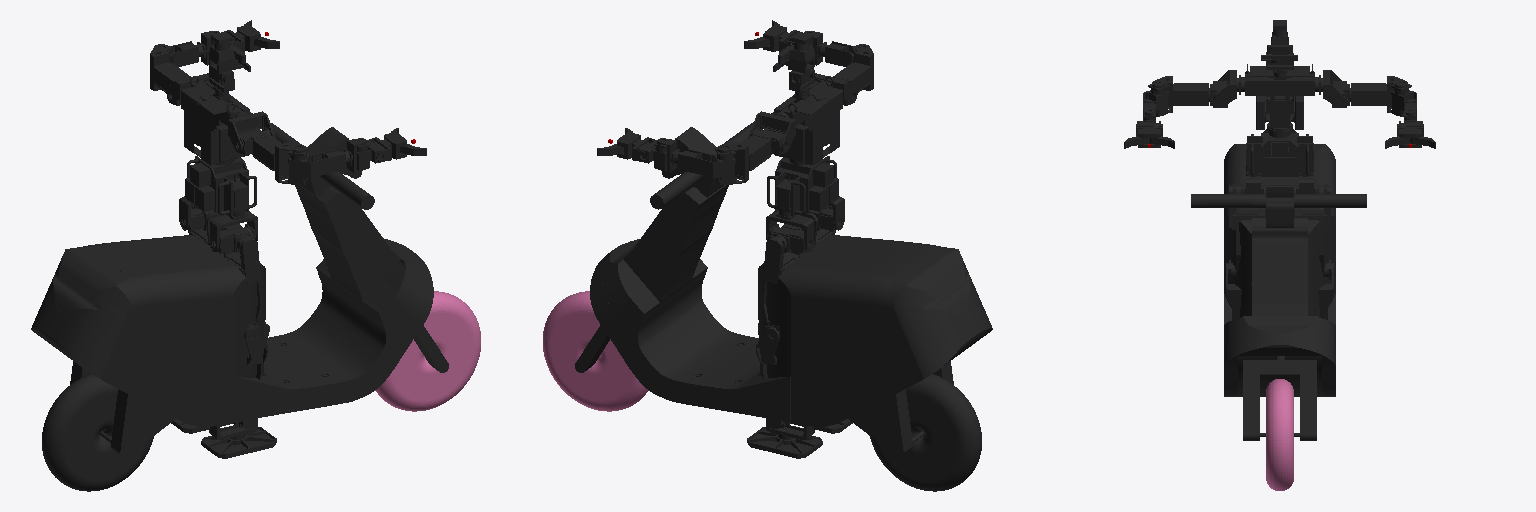
--- What the picture shows (computed from the rendered views, not written in the file) ---
The picture shows the robot from 3 angles, left to right: view 1: azimuth 30°, elevation 25°; view 2: azimuth 150°, elevation 25°; view 3: azimuth 270°, elevation 25°; orthographic projection.
Robot: gogoro_and_thormang3 — 48 links, 47 joints (34 revolute, 2 continuous, 11 fixed); root link pelvis_link; default pose: all joints at 0.
Visible links, largest first — view 1: body, back, front, chest_link, pelvis_link, head, r_arm_el_y_link, r_leg_hip_p_link, r_leg_foot_link, head_p_link, r_arm_sh_p2_link, l_arm_sh_p2_link (+8 smaller); view 2: body, back, front, chest_link, pelvis_link, head, l_arm_el_y_link, l_leg_hip_p_link, l_leg_foot_link, head_p_link, l_arm_sh_p2_link, r_arm_sh_p2_link (+8 smaller); view 3: body, head, chest_link, front, pelvis_link, l_arm_sh_p2_link, r_arm_sh_p2_link, head_p_link, l_leg_hip_p_link, r_leg_hip_p_link, l_arm_el_y_link, r_arm_el_y_link.
Boxes of the visible links, left/top/right/bottom form: body: left=31, top=185, right=433, bottom=456; back: left=42, top=374, right=153, bottom=491; front: left=375, top=291, right=480, bottom=411; chest_link: left=181, top=76, right=252, bottom=165; pelvis_link: left=185, top=156, right=256, bottom=219; head: left=262, top=123, right=448, bottom=372; r_arm_el_y_link: left=288, top=147, right=352, bottom=184; r_leg_hip_p_link: left=222, top=228, right=261, bottom=341; r_leg_foot_link: left=201, top=427, right=276, bottom=458; head_p_link: left=209, top=32, right=250, bottom=85; r_arm_sh_p2_link: left=253, top=135, right=305, bottom=184; l_arm_sh_p2_link: left=150, top=44, right=190, bottom=92; body: left=590, top=185, right=992, bottom=456; back: left=870, top=374, right=981, bottom=491; front: left=543, top=291, right=648, bottom=411; chest_link: left=771, top=76, right=842, bottom=165; pelvis_link: left=767, top=156, right=838, bottom=219; head: left=575, top=122, right=762, bottom=372; l_arm_el_y_link: left=671, top=147, right=735, bottom=184; l_leg_hip_p_link: left=762, top=228, right=801, bottom=341; l_leg_foot_link: left=747, top=427, right=822, bottom=458; head_p_link: left=773, top=32, right=814, bottom=86; l_arm_sh_p2_link: left=718, top=135, right=770, bottom=184; r_arm_sh_p2_link: left=833, top=44, right=873, bottom=92; body: left=1224, top=144, right=1335, bottom=396; head: left=1191, top=185, right=1366, bottom=440; chest_link: left=1237, top=64, right=1322, bottom=137; front: left=1266, top=379, right=1293, bottom=490; pelvis_link: left=1246, top=129, right=1313, bottom=176; l_arm_sh_p2_link: left=1350, top=76, right=1407, bottom=115; r_arm_sh_p2_link: left=1152, top=76, right=1209, bottom=115; head_p_link: left=1261, top=20, right=1297, bottom=64; l_leg_hip_p_link: left=1294, top=184, right=1331, bottom=279; r_leg_hip_p_link: left=1228, top=184, right=1265, bottom=279; l_arm_el_y_link: left=1391, top=82, right=1416, bottom=120; r_arm_el_y_link: left=1143, top=82, right=1168, bottom=120.
Bounding box of the posed robot: 1.58 × 1.11 × 1.47 m (x, y, z).
Meshes: 39 distinct files referenced, 40 mesh visuals loaded (39 OBJ).

robot.urdf — gogoro_and_thormang3:
<?xml version="1.0" encoding="utf-8"?>
<!-- =================================================================================== -->
<!-- |    This document was autogenerated by xacro from gogoro_and_thormang3.xacro     | -->
<!-- |    EDITING THIS FILE BY HAND IS NOT RECOMMENDED                                 | -->
<!-- =================================================================================== -->
<robot name="gogoro_and_thormang3">
  <!-- ros_control plugin -->
  <gazebo>
    <plugin filename="libgazebo_ros_control.so" name="gazebo_ros_control">
      <robotNamespace>/thormang3</robotNamespace>
      <robotSimType>gazebo_ros_control/DefaultRobotHWSim</robotSimType>
      <legacyModeNS>true</legacyModeNS>
    </plugin>
  </gazebo>
  <gazebo>
    <plugin filename="libgazebo_ros_p3d.so" name="ground_truth">
      <frameName>map</frameName>
      <bodyName>pelvis_link</bodyName>
      <topicName>odom</topicName>
      <updateRate>100.0</updateRate>
    </plugin>
  </gazebo>
  <gazebo reference="cam_link">
    <sensor name="center_camera_gz" type="camera">
      <update_rate>30.0</update_rate>
      <camera name="web_cam">
        <!--<horizontal_fov>1.3962634</horizontal_fov> -->
        <horizontal_fov>1.7</horizontal_fov>
        <image>
          <width>640</width>
          <height>480</height>
          <format>R8G8B8</format>
        </image>
        <clip>
          <near>0.02</near>
          <far>300</far>
        </clip>
      </camera>
      <plugin filename="libgazebo_ros_camera.so" name="camera_controller">
        <alwaysOn>true</alwaysOn>
        <updateRate>0.0</updateRate>
        <cameraName>/robotis/sensor/camera</cameraName>
        <imageTopicName>/robotis/sensor/image_raw</imageTopicName>
        <cameraInfoTopicName>/robotis/sensor/camera_info</cameraInfoTopicName>
        <frameName>cam_link</frameName>
        <hackBaseline>0.07</hackBaseline>
        <distortionK1>0.0</distortionK1>
        <distortionK2>0.0</distortionK2>
        <distortionK3>0.0</distortionK3>
        <distortionT1>0.0</distortionT1>
        <distortionT2>0.0</distortionT2>
      </plugin>
    </sensor>
  </gazebo>
  <gazebo reference="lidar_link">
    <sensor name="head_hokuyo_sensor" type="gpu_ray">
      <pose>0 0 0 0 0 0</pose>
      <visualize>false</visualize>
      <update_rate>40</update_rate>
      <ray>
        <scan>
          <horizontal>
            <samples>720</samples>
            <resolution>1</resolution>
            <min_angle>-1.3</min_angle>
            <max_angle>1.0</max_angle>
          </horizontal>
        </scan>
        <range>
          <min>0.10</min>
          <max>6.0</max>
          <resolution>0.01</resolution>
        </range>
        <noise>
          <type>gaussian</type>
          <mean>0.0</mean>
          <stddev>0.01</stddev>
        </noise>
      </ray>
      <plugin filename="libgazebo_ros_gpu_laser.so" name="gazebo_ros_head_hokuyo_controller">
        <topicName>/robotis/sensor/scan</topicName>
        <frameName>lidar_link</frameName>
      </plugin>
    </sensor>
  </gazebo>
  <gazebo>
    <plugin filename="libgazebo_ros_imu.so" name="imu_plugin">
      <alwaysOn>true</alwaysOn>
      <bodyName>imu_link</bodyName>
      <topicName>/robotis/sensor/imu</topicName>
      <serviceName>imu_service</serviceName>
      <gaussianNoise>0.0</gaussianNoise>
      <updateRate>10.0</updateRate>
      <imu>
        <noise>
          <type>gaussian</type>
          <rate>
            <mean>0.0</mean>
            <stddev>2e-4</stddev>
            <bias_mean>0.0000075</bias_mean>
            <bias_stddev>0.0000008</bias_stddev>
          </rate>
          <accel>
            <mean>0.0</mean>
            <stddev>1.7e-2</stddev>
            <bias_mean>0.1</bias_mean>
            <bias_stddev>0.001</bias_stddev>
          </accel>
        </noise>
      </imu>
    </plugin>
  </gazebo>
  <!-- World -->
  <gazebo reference="world">
  </gazebo>
  <!-- Base -->
  <gazebo reference="base">
  </gazebo>
  <!-- Body-->
  <gazebo reference="pelvis_link">
    <mu1>0.2</mu1>
    <mu2>0.2</mu2>
    <material>Gazebo/Grey</material>
  </gazebo>
  <gazebo reference="chest_link">
    <mu1>0.2</mu1>
    <mu2>0.2</mu2>
    <material>Gazebo/Grey</material>
  </gazebo>
  <!-- Head -->
  <gazebo reference="head_y_link">
    <mu1>0.2</mu1>
    <mu2>0.2</mu2>
    <material>Gazebo/Grey</material>
  </gazebo>
  <gazebo reference="head_p_link">
    <mu1>0.2</mu1>
    <mu2>0.2</mu2>
    <material>Gazebo/Grey</material>
  </gazebo>
  <gazebo reference="lidar_link">
  </gazebo>
  <!-- Left Arm -->
  <gazebo reference="l_arm_sh_p1_link">
    <mu1>0.2</mu1>
    <mu2>0.2</mu2>
    <material>Gazebo/Grey</material>
  </gazebo>
  <gazebo reference="l_arm_sh_r_link">
    <mu1>0.2</mu1>
    <mu2>0.2</mu2>
    <material>Gazebo/Grey</material>
  </gazebo>
  <gazebo reference="l_arm_sh_p2_link">
    <mu1>0.2</mu1>
    <mu2>0.2</mu2>
    <material>Gazebo/Grey</material>
  </gazebo>
  <gazebo reference="l_arm_el_y_link">
    <mu1>0.2</mu1>
    <mu2>0.2</mu2>
    <material>Gazebo/Grey</material>
  </gazebo>
  <gazebo reference="l_arm_wr_r_link">
    <mu1>0.2</mu1>
    <mu2>0.2</mu2>
    <material>Gazebo/Grey</material>
  </gazebo>
  <gazebo reference="l_arm_wr_y_link">
    <mu1>0.2</mu1>
    <mu2>0.2</mu2>
    <material>Gazebo/Grey</material>
  </gazebo>
  <gazebo reference="l_arm_wr_p_link">
    <mu1>0.2</mu1>
    <mu2>0.2</mu2>
    <material>Gazebo/Grey</material>
  </gazebo>
  <gazebo reference="l_arm_grip_link">
    <mu1>0.2</mu1>
    <mu2>0.2</mu2>
    <material>Gazebo/Grey</material>
  </gazebo>
  <gazebo reference="l_arm_grip_1_link">
    <mu1>0.2</mu1>
    <mu2>0.2</mu2>
    <material>Gazebo/Grey</material>
  </gazebo>
  <gazebo reference="l_arm_end_link">
    <mu1>0.2</mu1>
    <mu2>0.2</mu2>
    <material>Gazebo/Red</material>
  </gazebo>
  <!-- Right Arm -->
  <gazebo reference="r_arm_sh_p1_link">
    <mu1>0.2</mu1>
    <mu2>0.2</mu2>
    <material>Gazebo/Grey</material>
  </gazebo>
  <gazebo reference="r_arm_sh_r_link">
    <mu1>0.2</mu1>
    <mu2>0.2</mu2>
    <material>Gazebo/Grey</material>
  </gazebo>
  <gazebo reference="r_arm_sh_p2_link">
    <mu1>0.2</mu1>
    <mu2>0.2</mu2>
    <material>Gazebo/Grey</material>
  </gazebo>
  <gazebo reference="r_arm_el_y_link">
    <mu1>0.2</mu1>
    <mu2>0.2</mu2>
    <material>Gazebo/Grey</material>
  </gazebo>
  <gazebo reference="r_arm_wr_r_link">
    <mu1>0.2</mu1>
    <mu2>0.2</mu2>
    <material>Gazebo/Grey</material>
  </gazebo>
  <gazebo reference="r_arm_wr_y_link">
    <mu1>0.2</mu1>
    <mu2>0.2</mu2>
    <material>Gazebo/Grey</material>
  </gazebo>
  <gazebo reference="r_arm_wr_p_link">
    <mu1>0.2</mu1>
    <mu2>0.2</mu2>
    <material>Gazebo/Grey</material>
  </gazebo>
  <gazebo reference="r_arm_grip_link">
    <mu1>0.2</mu1>
    <mu2>0.2</mu2>
    <material>Gazebo/Grey</material>
  </gazebo>
  <gazebo reference="r_arm_grip_1_link">
    <mu1>0.2</mu1>
    <mu2>0.2</mu2>
    <material>Gazebo/Grey</material>
  </gazebo>
  <gazebo reference="r_arm_end_link">
    <mu1>0.2</mu1>
    <mu2>0.2</mu2>
    <material>Gazebo/Red</material>
  </gazebo>
  <!-- Left Leg -->
  <gazebo reference="l_leg_hip_y_link">
    <mu1>0.2</mu1>
    <mu2>0.2</mu2>
    <material>Gazebo/Grey</material>
  </gazebo>
  <gazebo reference="l_leg_hip_r_link">
    <mu1>0.2</mu1>
    <mu2>0.2</mu2>
    <material>Gazebo/Grey</material>
  </gazebo>
  <gazebo reference="l_leg_hip_p_link">
    <mu1>0.2</mu1>
    <mu2>0.2</mu2>
    <material>Gazebo/Grey</material>
  </gazebo>
  <gazebo reference="l_leg_kn_p_link">
    <mu1>0.2</mu1>
    <mu2>0.2</mu2>
    <material>Gazebo/Grey</material>
  </gazebo>
  <gazebo reference="l_leg_an_p_link">
    <mu1>0.2</mu1>
    <mu2>0.2</mu2>
    <material>Gazebo/Grey</material>
  </gazebo>
  <gazebo reference="l_leg_an_r_link">
    <mu1>0.2</mu1>
    <mu2>0.2</mu2>
    <material>Gazebo/Grey</material>
  </gazebo>
  <gazebo reference="l_leg_foot_link">
    <kp>100000.0</kp>
    <kd>100.0</kd>
    <mu1>1.5</mu1>
    <mu2>1.5</mu2>
    <fdir1>1 0 0</fdir1>
    <maxVel>1.0</maxVel>
    <minDepth>0.0</minDepth>
    <material>Gazebo/Grey</material>
  </gazebo>
  <!-- Right Leg -->
  <gazebo reference="r_leg_hip_y_link">
    <mu1>0.2</mu1>
    <mu2>0.2</mu2>
    <material>Gazebo/Grey</material>
  </gazebo>
  <gazebo reference="r_leg_hip_r_link">
    <mu1>0.2</mu1>
    <mu2>0.2</mu2>
    <material>Gazebo/Grey</material>
  </gazebo>
  <gazebo reference="r_leg_hip_p_link">
    <mu1>0.2</mu1>
    <mu2>0.2</mu2>
    <material>Gazebo/Grey</material>
  </gazebo>
  <gazebo reference="r_leg_kn_p_link">
    <mu1>0.2</mu1>
    <mu2>0.2</mu2>
    <material>Gazebo/Grey</material>
  </gazebo>
  <gazebo reference="r_leg_an_p_link">
    <mu1>0.2</mu1>
    <mu2>0.2</mu2>
    <material>Gazebo/Grey</material>
  </gazebo>
  <gazebo reference="r_leg_an_r_link">
    <mu1>0.2</mu1>
    <mu2>0.2</mu2>
    <material>Gazebo/Grey</material>
  </gazebo>
  <gazebo reference="r_leg_foot_link">
    <kp>100000.0</kp>
    <kd>100.0</kd>
    <mu1>1.5</mu1>
    <mu2>1.5</mu2>
    <fdir1>1 0 0</fdir1>
    <maxVel>1.0</maxVel>
    <minDepth>0.0</minDepth>
    <material>Gazebo/Grey</material>
  </gazebo>
  <material name="black">
    <color rgba="0.0 0.0 0.0 1.0"/>
  </material>
  <material name="blue">
    <color rgba="0.0 0.0 0.8 1.0"/>
  </material>
  <material name="green">
    <color rgba="0.0 0.8 0.0 1.0"/>
  </material>
  <material name="grey">
    <color rgba="0.2 0.2 0.2 1.0"/>
  </material>
  <material name="orange">
    <color rgba="1.0 0.423529411765 0.0392156862745 1.0"/>
  </material>
  <material name="brown">
    <color rgba="0.870588235294 0.811764705882 0.764705882353 1.0"/>
  </material>
  <material name="red">
    <color rgba="0.8 0.0 0.0 1.0"/>
  </material>
  <material name="white">
    <color rgba="1.0 1.0 1.0 1.0"/>
  </material>
  <!-- Used for fixing robot -->
  <!--
  <link name="world">
  </link>

  <joint name="world_fixed" type="fixed">
    <origin xyz="0 0 0" rpy="0 0 0"/>
    <parent link="world"/>
    <child link="base"/>
  </joint>

  <link name="base">
  </link>

  <joint name="base_fixed" type="fixed">
    <origin xyz="0 0 0.723" rpy="0 0 0"/>
    <parent link="base"/>
    <child link="pelvis_link"/>
  </joint>
-->
  <!-- pelvis_link -->
  <link name="pelvis_link">
    <collision>
      <origin xyz="-0.01 0 0.07" rpy="0 0 0"/>
      <geometry>
        <box size="0.2 0.25 0.17" />
      </geometry>
    </collision>
    <visual>
      <origin rpy="0 0 0" xyz="0 0 0"/>
      <geometry>
        <mesh filename="package://gogoro_description/meshes/thormang3/robotis_pelvis_link.obj" scale="0.001 0.001 0.001"/>
      </geometry>
      <material name="grey"/>
    </visual>
    <inertial>
      <origin rpy="0 0 0" xyz="-0.011 0.000 0.058"/>
      <mass value="6.869"/>
      <inertia ixx="1.0" ixy="0.0" ixz="0.0" iyy="1.0" iyz="0.0" izz="1.0"/>
      <!--<inertia ixx="0.03603" ixy="0.0" ixz="0.00016" iyy="0.02210" iyz="0.0" izz="0.03830" />-->
    </inertial>
  </link>
  <!-- torso yaw joint -->
  <joint name="torso_y" type="revolute">
    <parent link="pelvis_link"/>
    <child link="chest_link"/>
    <origin rpy="0 0 0" xyz="0 0 0.1705"/>
    <axis xyz="0 0 1"/>
    <limit effort="1000" lower="-1.8849555924" upper="1.8849555924" velocity="6.5"/>
    <dynamics damping="0.1" friction="0.0"/>
  </joint>
  <transmission name="torso_y_tran">
    <type>transmission_interface/SimpleTransmission</type>
    <joint name="torso_y">
      <hardwareInterface>EffortJointInterface</hardwareInterface>
    </joint>
    <actuator name="torso_y_motor">
      <hardwareInterface>EffortJointInterface</hardwareInterface>
      <mechanicalReduction>1</mechanicalReduction>
    </actuator>
  </transmission>
  <!-- chest_link -->
  <link name="chest_link">
    <collision>
      <origin xyz="-0.01 0 0.11" rpy="0 0 0"/>
      <geometry>
        <box size="0.2 0.25 0.23" />
      </geometry>
    </collision>
    <visual>
      <origin rpy="0 0 0" xyz="0 0 0"/>
      <geometry>
        <mesh filename="package://gogoro_description/meshes/thormang3/robotis_chest_link.obj" scale="0.001 0.001 0.001"/>
      </geometry>
      <material name="grey"/>
    </visual>
    <inertial>
      <origin rpy="0 0 0" xyz="-0.007 0.000 0.109"/>
      <mass value="5.383"/>
      <inertia ixx="1.0" ixy="0.0" ixz="0.0" iyy="1.0" iyz="0.0" izz="1.0"/>
      <!--<inertia ixx="0.04710" ixy="0.0" ixz="0.04710" iyy="0.02554" iyz="0.0" izz="0.03094" />-->
    </inertial>
  </link>
  <!-- imu joint -->
  <joint name="imu_fixed" type="fixed">
    <parent link="pelvis_link"/>
    <child link="imu_link"/>
    <origin rpy="0 0 3.141592654" xyz="0.03 0 0.0"/>
  </joint>
  <link name="imu_link">
  </link>
  <!-- left shoulder pitch 1 joint -->
  <joint name="l_arm_sh_p1" type="revolute">
    <axis xyz="0 1 0"/>
    <origin rpy="0 0 0" xyz="0.0 0.152 0.16"/>
    <parent link="chest_link"/>
    <child link="l_arm_sh_p1_link"/>
    <limit effort="1000" lower="-1.570796327" upper="1.570796327" velocity="6.5"/>
    <dynamics damping="0.1" friction="0.0"/>
  </joint>
  <transmission name="l_arm_sh_p1_tran">
    <type>transmission_interface/SimpleTransmission</type>
    <joint name="l_arm_sh_p1">
      <hardwareInterface>EffortJointInterface</hardwareInterface>
    </joint>
    <actuator name="l_arm_sh_p1_motor">
      <hardwareInterface>EffortJointInterface</hardwareInterface>
      <mechanicalReduction>1</mechanicalReduction>
    </actuator>
  </transmission>
  <!-- left shoulder pitch 1 link -->
  <link name="l_arm_sh_p1_link">
    	  <collision>
      	    <origin xyz="0 0.03 -0.01" rpy="0 0 0"/>
      	    <geometry>
              <box size="0.15 0.1 0.09" />
      	    </geometry>
    	  </collision>
    <visual>
      <origin rpy="0 0 0" xyz="0 0 0"/>
      <geometry>
        <mesh filename="package://gogoro_description/meshes/thormang3/robotis_l_arm_sh_p1_link.obj" scale="0.001 0.001 0.001"/>
      </geometry>
      <material name="grey"/>
    </visual>
    <inertial>
      <origin rpy="0 0 0" xyz="-0.003 0.020 -0.005"/>
      <mass value="0.194"/>
      <inertia ixx="1.0" ixy="0.0" ixz="0.0" iyy="1.0" iyz="0.0" izz="1.0"/>
      <!--<inertia ixx="0.00018" ixy="0.0" ixz="0.0" iyy="0.00058" iyz="0.00004" izz="0.00057" />-->
    </inertial>
  </link>
  <!-- left shoulder roll joint -->
  <joint name="l_arm_sh_r" type="revolute">
    <axis xyz="-1 0 0"/>
    <origin rpy="0 0 0" xyz="0.057 0.060 -0.039"/>
    <parent link="l_arm_sh_p1_link"/>
    <child link="l_arm_sh_r_link"/>
    <limit effort="1000" lower="-1.570796327" upper="1.570796327" velocity="6.5"/>
    <dynamics damping="0.1" friction="0.0"/>
  </joint>
  <transmission name="l_arm_sh_r_tran">
    <type>transmission_interface/SimpleTransmission</type>
    <joint name="l_arm_sh_r">
      <hardwareInterface>EffortJointInterface</hardwareInterface>
    </joint>
    <actuator name="l_arm_sh_r_motor">
      <hardwareInterface>EffortJointInterface</hardwareInterface>
      <mechanicalReduction>1</mechanicalReduction>
    </actuator>
  </transmission>
  <!-- left shoulder roll link -->
  <link name="l_arm_sh_r_link">
    	  <collision>
      	    <origin xyz="-0.057 0 0" rpy="0 0 0"/>
      	    <geometry>
              <box size="0.14 0.09 0.09" />
      	    </geometry>
    	  </collision>
    <visual>
      <origin rpy="0 0 0" xyz="0 0 0"/>
      <geometry>
        <mesh filename="package://gogoro_description/meshes/thormang3/robotis_l_arm_sh_r_link.obj" scale="0.001 0.001 0.001"/>
      </geometry>
      <material name="grey"/>
    </visual>
    <inertial>
      <origin rpy="0 0 0" xyz="-0.060 0.002 0.000"/>
      <mass value="0.875"/>
      <inertia ixx="1.0" ixy="0.0" ixz="0.0" iyy="1.0" iyz="0.0" izz="1.0"/>
      <!--<inertia ixx="0.00043" ixy="0.0" ixz="0.0" iyy="0.00112" iyz="0.0" izz="0.00113" />-->
    </inertial>
  </link>
  <!-- left shoulder pitch 2 joint -->
  <joint name="l_arm_sh_p2" type="revolute">
    <axis xyz="0 1 0"/>
    <origin rpy="0 0 0" xyz="-0.057 0.033 0.0"/>
    <parent link="l_arm_sh_r_link"/>
    <child link="l_arm_sh_p2_link"/>
    <limit effort="1000" lower="-1.570796327" upper="1.570796327" velocity="6.5"/>
    <dynamics damping="0.1" friction="0.0"/>
  </joint>
  <transmission name="l_arm_sh_p2_tran">
    <type>transmission_interface/SimpleTransmission</type>
    <joint name="l_arm_sh_p2">
      <hardwareInterface>EffortJointInterface</hardwareInterface>
    </joint>
    <actuator name="l_arm_sh_p2_motor">
      <hardwareInterface>EffortJointInterface</hardwareInterface>
      <mechanicalReduction>1</mechanicalReduction>
    </actuator>
  </transmission>
  <!-- left shoulder pitch2 link -->
  <link name="l_arm_sh_p2_link">
    	  <collision>
      	    <origin xyz="0.01 0.11 0" rpy="0 0 0"/>
      	    <geometry>
              <box size="0.1 0.24 0.13" />
      	    </geometry>
    	  </collision>
    <visual>
      <origin rpy="0 0 0" xyz="0 0 0"/>
      <geometry>
        <mesh filename="package://gogoro_description/meshes/thormang3/robotis_l_arm_sh_p2_link.obj" scale="0.001 0.001 0.001"/>
      </geometry>
      <material name="grey"/>
    </visual>
    <inertial>
      <origin rpy="0 0 0" xyz="0.000 0.073 0.000"/>
      <mass value="1.122"/>
      <inertia ixx="1.0" ixy="0.0" ixz="0.0" iyy="1.0" iyz="0.0" izz="1.0"/>
      <!--<inertia ixx="0.00277" ixy="-0.00002" ixz="-0.00001" iyy="0.00090" iyz="-0.00004" izz="0.00255" />-->
    </inertial>
  </link>
  <!-- left elbow yaw joint -->
  <joint name="l_arm_el_y" type="revolute">
    <axis xyz="0 0 -1"/>
    <origin rpy="0 0 0" xyz="0.030 0.187 0.057"/>
    <parent link="l_arm_sh_p2_link"/>
    <child link="l_arm_el_y_link"/>
    <limit effort="1000" lower="-1.2566370616" upper="1.2566370616" velocity="6.5"/>
    <dynamics damping="0.1" friction="0.0"/>
  </joint>
  <transmission name="l_arm_el_y_tran">
    <type>transmission_interface/SimpleTransmission</type>
    <joint name="l_arm_el_y">
      <hardwareInterface>EffortJointInterface</hardwareInterface>
    </joint>
    <actuator name="l_arm_el_y_motor">
      <hardwareInterface>EffortJointInterface</hardwareInterface>
      <mechanicalReduction>1</mechanicalReduction>
    </actuator>
  </transmission>
  <!-- left elbow yaw link -->
  <link name="l_arm_el_y_link">
    	  <collision>
      	    <origin xyz="0.08 0.01 -0.057" rpy="0 0 0"/>
      	    <geometry>
              <box size="0.17 0.1 0.08" />
      	    </geometry>
    	  </collision>
    <visual>
      <origin rpy="0 0 0" xyz="0 0 0"/>
      <geometry>
        <mesh filename="package://gogoro_description/meshes/thormang3/robotis_l_arm_el_y_link.obj" scale="0.001 0.001 0.001"/>
      </geometry>
      <material name="grey"/>
    </visual>
    <inertial>
      <origin rpy="0 0 0" xyz="0.042 0.012 -0.058"/>
      <mass value="1.357"/>
      <inertia ixx="1.0" ixy="0.0" ixz="0.0" iyy="1.0" iyz="0.0" izz="1.0"/>
      <!--<inertia ixx="0.00152" ixy="-0.00100" ixz="-0.00006" iyy="0.00560" iyz="-0.00002" izz="0.00528" />-->
    </inertial>
  </link>
  <!-- left wrist roll joint -->
  <joint name="l_arm_wr_r" type="revolute">
    <axis xyz="1 0 0"/>
    <origin rpy="0 0 0" xyz="0.171 0.030 -0.057"/>
    <parent link="l_arm_el_y_link"/>
    <child link="l_arm_wr_r_link"/>
    <limit effort="1000" lower="-2.8274333886" upper="2.8274333886" velocity="6.5"/>
    <dynamics damping="0.1" friction="0.0"/>
  </joint>
  <transmission name="l_arm_wr_r_tran">
    <type>transmission_interface/SimpleTransmission</type>
    <joint name="l_arm_wr_r">
      <hardwareInterface>EffortJointInterface</hardwareInterface>
    </joint>
    <actuator name="l_arm_wr_r_motor">
      <hardwareInterface>EffortJointInterface</hardwareInterface>
      <mechanicalReduction>1</mechanicalReduction>
    </actuator>
  </transmission>
  <!-- left wrist roll link -->
  <link name="l_arm_wr_r_link">
    	  <collision>
      	    <origin xyz="0.02 0 0" rpy="0 0 0"/>
      	    <geometry>
              <box size="0.05 0.05 0.11" />
      	    </geometry>
    	  </collision>
    <visual>
      <origin rpy="0 0 0" xyz="0 0 0"/>
      <geometry>
        <mesh filename="package://gogoro_description/meshes/thormang3/robotis_l_arm_wr_r_link.obj" scale="0.001 0.001 0.001"/>
      </geometry>
      <material name="grey"/>
    </visual>
    <inertial>
      <origin rpy="0 0 0" xyz="0.010 0.000 0.002"/>
      <mass value="0.087"/>
      <inertia ixx="1.0" ixy="0.0" ixz="0.0" iyy="1.0" iyz="0.0" izz="1.0"/>
      <!--<inertia ixx="0.00012" ixy="0.0" ixz="0.0" iyy="0.00011" iyz="0.0" izz="0.00003" />-->
    </inertial>
  </link>
  <!-- left wrist yaw joint -->
  <joint name="l_arm_wr_y" type="revolute">
    <axis xyz="0 0 -1"/>
    <origin rpy="0 0 0" xyz="0.039 0.0 0.045"/>
    <parent link="l_arm_wr_r_link"/>
    <child link="l_arm_wr_y_link"/>
    <limit effort="1000" lower="-1.4137166943" upper="1.4137166943" velocity="6.5"/>
    <dynamics damping="0.1" friction="0.0"/>
  </joint>
  <transmission name="l_arm_wr_y_tran">
    <type>transmission_interface/SimpleTransmission</type>
    <joint name="l_arm_wr_y">
      <hardwareInterface>EffortJointInterface</hardwareInterface>
    </joint>
    <actuator name="l_arm_wr_y_motor">
      <hardwareInterface>EffortJointInterface</hardwareInterface>
      <mechanicalReduction>1</mechanicalReduction>
    </actuator>
  </transmission>
  <!-- left wrist yaw link -->
  <link name="l_arm_wr_y_link">
    	  <collision>
      	    <origin xyz="0.03 0 -0.045" rpy="0 0 0"/>
      	    <geometry>
              <box size="0.09 0.1 0.09" />
      	    </geometry>
    	  </collision>
    <visual>
      <origin rpy="0 0 0" xyz="0 0 0"/>
      <geometry>
        <mesh filename="package://gogoro_description/meshes/thormang3/robotis_l_arm_wr_y_link.obj" scale="0.001 0.001 0.001"/>
      </geometry>
      <material name="grey"/>
    </visual>
    <inertial>
      <origin rpy="0 0 0" xyz="0.023 0.001 -0.046"/>
      <mass value="0.768"/>
      <inertia ixx="1.0" ixy="0.0" ixz="0.0" iyy="1.0" iyz="0.0" izz="1.0"/>
      <!--<inertia ixx="0.00059" ixy="-0.00002" ixz="-0.00002" iyy="0.00078" iyz="0.0" izz="0.00078" />-->
    </inertial>
  </link>
  <!-- left wrist pitch joint -->
  <joint name="l_arm_wr_p" type="revolute">
    <axis xyz="0 -1 0"/>
    <origin rpy="0 0 0" xyz="0.045 -0.045 -0.045"/>
    <parent link="l_arm_wr_y_link"/>
    <child link="l_arm_wr_p_link"/>
    <limit effort="1000" lower="-1.4137166943" upper="1.4137166943" velocity="6.5"/>
    <dynamics damping="0.1" friction="0.0"/>
  </joint>
  <transmission name="l_arm_wr_p_tran">
    <type>transmission_interface/SimpleTransmission</type>
    <joint name="l_arm_wr_p">
      <hardwareInterface>EffortJointInterface</hardwareInterface>
    </joint>
    <actuator name="l_arm_wr_p_motor">
      <hardwareInterface>EffortJointInterface</hardwareInterface>
      <mechanicalReduction>1</mechanicalReduction>
    </actuator>
  </transmission>
  <!-- left wrist pitch link -->
  <link name="l_arm_wr_p_link">
    	  <collision>
      	    <origin xyz="0.07 0.045 0" rpy="0 0 0"/>
      	    <geometry>
              <box size="0.07 0.1 0.06" />
      	    </geometry>
    	  </collision>
    <visual>
      <origin rpy="0 0 0" xyz="0 0 0"/>
      <geometry>
        <mesh filename="package://gogoro_description/meshes/thormang3/robotis_l_arm_wr_p_link.obj" scale="0.001 0.001 0.001"/>
      </geometry>
      <material name="grey"/>
    </visual>
    <inertial>
      <origin rpy="0 0 0" xyz="0.065 0.045 0.000"/>
      <mass value="0.565"/>
      <inertia ixx="1.0" ixy="0.0" ixz="0.0" iyy="1.0" iyz="0.0" izz="1.0"/>
      <!--<inertia ixx="0.00047" ixy="-0.00001" ixz="0.0" iyy="0.00042" iyz="0.0" izz="0.00058" />-->
    </inertial>
  </link>
  <!-- left arm gripper joint -->
  <joint name="l_arm_grip" type="revolute">
    <axis xyz="0 0 -1"/>
    <origin rpy="0 0 0.698131700889" xyz="0.0877 0.0583 0.0"/>
    <parent link="l_arm_wr_p_link"/>
    <child link="l_arm_grip_link"/>
    <limit effort="1000" lower="0.0" upper="1.13446401394" velocity="6.5"/>
    <dynamics damping="0.1" friction="0.0"/>
  </joint>
  <transmission name="l_arm_grip_tran">
    <type>transmission_interface/SimpleTransmission</type>
    <joint name="l_arm_grip">
      <hardwareInterface>EffortJointInterface</hardwareInterface>
    </joint>
    <actuator name="l_arm_grip_motor">
      <hardwareInterface>EffortJointInterface</hardwareInterface>
      <mechanicalReduction>1</mechanicalReduction>
    </actuator>
  </transmission>
  <!-- left arm gripper link -->
  <link name="l_arm_grip_link">
    <visual>
      <origin rpy="0 0 0" xyz="0 0 0"/>
      <geometry>
        <mesh filename="package://gogoro_description/meshes/thormang3/robotis_l_arm_grip_link.obj" scale="0.001 0.001 0.001"/>
      </geometry>
      <material name="grey"/>
    </visual>
    <inertial>
      <origin rpy="0 0 0" xyz="0.031 0.014 0.000"/>
      <mass value="0.013"/>
      <inertia ixx="1.0" ixy="0.0" ixz="0.0" iyy="1.0" iyz="0.0" izz="1.0"/>
      <!--<inertia ixx="0.0" ixy="0.0" ixz="0.0" iyy="0.00001" iyz="0.0" izz="0.00001" />-->
    </inertial>
  </link>
  <!-- left arm gripper 1 joint -->
  <joint name="l_arm_grip_1" type="revolute">
    <axis xyz="0 0 1"/>
    <origin rpy="0 0 -0.698131700889" xyz="0.0877 0.0317 0.0"/>
    <parent link="l_arm_wr_p_link"/>
    <child link="l_arm_grip_1_link"/>
    <limit effort="1000" lower="0.0" upper="1.13446401394" velocity="6.5"/>
    <dynamics damping="0.1" friction="0.0"/>
  </joint>
  <transmission name="l_arm_grip_1_tran">
    <type>transmission_interface/SimpleTransmission</type>
    <joint name="l_arm_grip_1">
      <hardwareInterface>EffortJointInterface</hardwareInterface>
    </joint>
    <actuator name="l_arm_grip_1_motor">
      <hardwareInterface>EffortJointInterface</hardwareInterface>
      <mechanicalReduction>1</mechanicalReduction>
    </actuator>
  </transmission>
  <!-- left arm gripper 1 link -->
  <link name="l_arm_grip_1_link">
    <visual>
      <origin rpy="0 0 0" xyz="0 0 0"/>
      <geometry>
        <mesh filename="package://gogoro_description/meshes/thormang3/robotis_l_arm_grip_1_link.obj" scale="0.001 0.001 0.001"/>
      </geometry>
      <material name="grey"/>
    </visual>
    <inertial>
      <origin rpy="0 0 0" xyz="0.031 -0.014 0.000"/>
      <mass value="0.013"/>
      <inertia ixx="1.0" ixy="0.0" ixz="0.0" iyy="1.0" iyz="0.0" izz="1.0"/>
      <!--<inertia ixx="0.0" ixy="0.0" ixz="0.0" iyy="0.00001" iyz="0.0" izz="0.00001" />-->
    </inertial>
  </link>
  <!-- left end effector -->
  <joint name="l_arm_end" type="fixed">
    <origin rpy="0 0 0" xyz="0.145 0.045 0"/>
    <parent link="l_arm_wr_p_link"/>
    <child link="l_arm_end_link"/>
  </joint>
  <!-- left end effector link -->
  <link name="l_arm_end_link">
    <visual>
      <origin rpy="0 0 0" xyz="0 0 0"/>
      <geometry>
        <box size="0.01 0.01 0.01"/>
      </geometry>
      <material name="red"/>
    </visual>
    <inertial>
      <origin rpy="0 0 0" xyz="0.0 0.0 0.0"/>
      <mass value="0.001"/>
      <inertia ixx="1.0" ixy="0.0" ixz="0.0" iyy="1.0" iyz="0.0" izz="1.0"/>
    </inertial>
  </link>
  <!-- right shoulder pitch 1 joint -->
  <joint name="r_arm_sh_p1" type="revolute">
    <axis xyz="0 -1 0"/>
    <origin rpy="0 0 0" xyz="0.0 -0.152 0.16"/>
    <parent link="chest_link"/>
    <child link="r_arm_sh_p1_link"/>
    <limit effort="1000" lower="-1.570796327" upper="1.570796327" velocity="6.5"/>
    <dynamics damping="0.1" friction="0.0"/>
  </joint>
  <transmission name="r_arm_sh_p1_tran">
    <type>transmission_interface/SimpleTransmission</type>
    <joint name="r_arm_sh_p1">
      <hardwareInterface>EffortJointInterface</hardwareInterface>
    </joint>
    <actuator name="r_arm_sh_p1_motor">
      <hardwareInterface>EffortJointInterface</hardwareInterface>
      <mechanicalReduction>1</mechanicalReduction>
    </actuator>
  </transmission>
  <!-- right shoulder pitch 1 link -->
  <link name="r_arm_sh_p1_link">
    	  <collision>
      	    <origin xyz="0 -0.03 -0.01" rpy="0 0 0"/>
      	    <geometry>
              <box size="0.15 0.1 0.09" />
      	    </geometry>
    	  </collision>
    <visual>
      <origin rpy="0 0 0" xyz="0 0 0"/>
      <geometry>
        <mesh filename="package://gogoro_description/meshes/thormang3/robotis_r_arm_sh_p1_link.obj" scale="0.001 0.001 0.001"/>
      </geometry>
      <material name="grey"/>
    </visual>
    <inertial>
      <origin rpy="0 0 0" xyz="-0.003 -0.020 -0.005"/>
      <mass value="0.194"/>
      <inertia ixx="1.0" ixy="0.0" ixz="0.0" iyy="1.0" iyz="0.0" izz="1.0"/>
      <!--<inertia ixx="0.00018" ixy="0.0" ixz="0.0" iyy="0.00058" iyz="-0.00004" izz="0.00057" />-->
    </inertial>
  </link>
  <!-- right shoulder roll joint -->
  <joint name="r_arm_sh_r" type="revolute">
    <axis xyz="-1 0 0"/>
    <origin rpy="0 0 0" xyz="0.057 -0.060 -0.039"/>
    <parent link="r_arm_sh_p1_link"/>
    <child link="r_arm_sh_r_link"/>
    <limit effort="1000" lower="-1.570796327" upper="1.570796327" velocity="6.5"/>
    <dynamics damping="0.1" friction="0.0"/>
  </joint>
  <transmission name="r_arm_sh_r_tran">
    <type>transmission_interface/SimpleTransmission</type>
    <joint name="r_arm_sh_r">
      <hardwareInterface>EffortJointInterface</hardwareInterface>
    </joint>
    <actuator name="r_arm_sh_r_motor">
      <hardwareInterface>EffortJointInterface</hardwareInterface>
      <mechanicalReduction>1</mechanicalReduction>
    </actuator>
  </transmission>
  <!-- right shoulder roll link -->
  <link name="r_arm_sh_r_link">
    	  <collision>
      	    <origin xyz="-0.057 0 0" rpy="0 0 0"/>
      	    <geometry>
              <box size="0.14 0.09 0.09" />
      	    </geometry>
    	  </collision>
    <visual>
      <origin rpy="0 0 0" xyz="0 0 0"/>
      <geometry>
        <mesh filename="package://gogoro_description/meshes/thormang3/robotis_r_arm_sh_r_link.obj" scale="0.001 0.001 0.001"/>
      </geometry>
      <material name="grey"/>
    </visual>
    <inertial>
      <origin rpy="0 0 0" xyz="-0.060 -0.002 0.000"/>
      <mass value="0.875"/>
      <inertia ixx="1.0" ixy="0.0" ixz="0.0" iyy="1.0" iyz="0.0" izz="1.0"/>
      <!--<inertia ixx="0.00043" ixy="0.0" ixz="0.0" iyy="0.00112" iyz="0.0" izz="0.00113" />-->
    </inertial>
  </link>
  <!-- right shoulder pitch 2 joint -->
  <joint name="r_arm_sh_p2" type="revolute">
    <axis xyz="0 -1 0"/>
    <origin rpy="0 0 0" xyz="-0.057 -0.033 0.0"/>
    <parent link="r_arm_sh_r_link"/>
    <child link="r_arm_sh_p2_link"/>
    <limit effort="1000" lower="-1.570796327" upper="1.570796327" velocity="6.5"/>
    <dynamics damping="0.1" friction="0.0"/>
  </joint>
  <transmission name="r_arm_sh_p2_tran">
    <type>transmission_interface/SimpleTransmission</type>
    <joint name="r_arm_sh_p2">
      <hardwareInterface>EffortJointInterface</hardwareInterface>
    </joint>
    <actuator name="r_arm_sh_p2_motor">
      <hardwareInterface>EffortJointInterface</hardwareInterface>
      <mechanicalReduction>1</mechanicalReduction>
    </actuator>
  </transmission>
  <!-- right shoulder pitch2 link -->
  <link name="r_arm_sh_p2_link">
    	  <collision>
      	    <origin xyz="0.01 -0.11 0" rpy="0 0 0"/>
      	    <geometry>
              <box size="0.1 0.24 0.13" />
      	    </geometry>
    	  </collision>
    <visual>
      <origin rpy="0 0 0" xyz="0 0 0"/>
      <geometry>
        <mesh filename="package://gogoro_description/meshes/thormang3/robotis_r_arm_sh_p2_link.obj" scale="0.001 0.001 0.001"/>
      </geometry>
      <material name="grey"/>
    </visual>
    <inertial>
      <origin rpy="0 0 0" xyz="0.000 -0.073 0.000"/>
      <mass value="1.122"/>
      <inertia ixx="1.0" ixy="0.0" ixz="0.0" iyy="1.0" iyz="0.0" izz="1.0"/>
      <!--<inertia ixx="0.00277" ixy="0.00002" ixz="-0.00001" iyy="0.00090" iyz="0.00004" izz="0.00255" />-->
    </inertial>
  </link>
  <!-- right elbow yaw joint -->
  <joint name="r_arm_el_y" type="revolute">
    <axis xyz="0 0 -1"/>
    <origin rpy="0 0 0" xyz="0.030 -0.187 0.057"/>
    <parent link="r_arm_sh_p2_link"/>
    <child link="r_arm_el_y_link"/>
    <limit effort="1000" lower="-1.2566370616" upper="1.2566370616" velocity="6.5"/>
    <dynamics damping="0.1" friction="0.0"/>
  </joint>
  <transmission name="r_arm_el_y_tran">
    <type>transmission_interface/SimpleTransmission</type>
    <joint name="r_arm_el_y">
      <hardwareInterface>EffortJointInterface</hardwareInterface>
    </joint>
    <actuator name="r_arm_el_y_motor">
      <hardwareInterface>EffortJointInterface</hardwareInterface>
      <mechanicalReduction>1</mechanicalReduction>
    </actuator>
  </transmission>
  <!-- right elbow yaw link -->
  <link name="r_arm_el_y_link">
    	  <collision>
      	    <origin xyz="0.08 -0.01 -0.057" rpy="0 0 0"/>
      	    <geometry>
              <box size="0.17 0.1 0.08" />
      	    </geometry>
    	  </collision>
    <visual>
      <origin rpy="0 0 0" xyz="0 0 0"/>
      <geometry>
        <mesh filename="package://gogoro_description/meshes/thormang3/robotis_r_arm_el_y_link.obj" scale="0.001 0.001 0.001"/>
      </geometry>
      <material name="grey"/>
    </visual>
    <inertial>
      <origin rpy="0 0 0" xyz="0.042 -0.012 -0.058"/>
      <mass value="1.357"/>
      <inertia ixx="1.0" ixy="0.0" ixz="0.0" iyy="1.0" iyz="0.0" izz="1.0"/>
      <!--<inertia ixx="0.00152" ixy="0.00100" ixz="-0.00006" iyy="0.00560" iyz="0.00002" izz="0.00528" />-->
    </inertial>
  </link>
  <!-- right wrist roll joint -->
  <joint name="r_arm_wr_r" type="revolute">
    <axis xyz="1 0 0"/>
    <origin rpy="0 0 0" xyz="0.171 -0.030 -0.057"/>
    <parent link="r_arm_el_y_link"/>
    <child link="r_arm_wr_r_link"/>
    <limit effort="1000" lower="-2.8274333886" upper="2.8274333886" velocity="6.5"/>
    <dynamics damping="0.1" friction="0.0"/>
  </joint>
  <transmission name="r_arm_wr_r_tran">
    <type>transmission_interface/SimpleTransmission</type>
    <joint name="r_arm_wr_r">
      <hardwareInterface>EffortJointInterface</hardwareInterface>
    </joint>
    <actuator name="r_arm_wr_r_motor">
      <hardwareInterface>EffortJointInterface</hardwareInterface>
      <mechanicalReduction>1</mechanicalReduction>
    </actuator>
  </transmission>
  <!-- right wrist roll link -->
  <link name="r_arm_wr_r_link">
    	  <collision>
      	    <origin xyz="0.02 0 0" rpy="0 0 0"/>
      	    <geometry>
              <box size="0.05 0.05 0.11" />
      	    </geometry>
    	  </collision>
    <visual>
      <origin rpy="0 0 0" xyz="0 0 0"/>
      <geometry>
        <mesh filename="package://gogoro_description/meshes/thormang3/robotis_r_arm_wr_r_link.obj" scale="0.001 0.001 0.001"/>
      </geometry>
      <material name="grey"/>
    </visual>
    <inertial>
      <origin rpy="0 0 0" xyz="0.010 0.000 -0.002"/>
      <mass value="0.087"/>
      <inertia ixx="1.0" ixy="0.0" ixz="0.0" iyy="1.0" iyz="0.0" izz="1.0"/>
      <!--<inertia ixx="0.00012" ixy="0.0" ixz="0.0" iyy="0.00011" iyz="0.0" izz="0.00003" />-->
    </inertial>
  </link>
  <!-- right wrist yaw joint -->
  <joint name="r_arm_wr_y" type="revolute">
    <axis xyz="0 0 -1"/>
    <origin rpy="0 0 0" xyz="0.039 0.0 0.045"/>
    <parent link="r_arm_wr_r_link"/>
    <child link="r_arm_wr_y_link"/>
    <limit effort="1000" lower="-1.4137166943" upper="1.4137166943" velocity="6.5"/>
    <dynamics damping="0.1" friction="0.0"/>
  </joint>
  <transmission name="r_arm_wr_y_tran">
    <type>transmission_interface/SimpleTransmission</type>
    <joint name="r_arm_wr_y">
      <hardwareInterface>EffortJointInterface</hardwareInterface>
    </joint>
    <actuator name="r_arm_wr_y_motor">
      <hardwareInterface>EffortJointInterface</hardwareInterface>
      <mechanicalReduction>1</mechanicalReduction>
    </actuator>
  </transmission>
  <!-- right wrist yaw link -->
  <link name="r_arm_wr_y_link">
    	  <collision>
      	    <origin xyz="0.03 0 -0.045" rpy="0 0 0"/>
      	    <geometry>
              <box size="0.09 0.1 0.09" />
      	    </geometry>
    	  </collision>
    <visual>
      <origin rpy="0 0 0" xyz="0 0 0"/>
      <geometry>
        <mesh filename="package://gogoro_description/meshes/thormang3/robotis_r_arm_wr_y_link.obj" scale="0.001 0.001 0.001"/>
      </geometry>
      <material name="grey"/>
    </visual>
    <inertial>
      <origin rpy="0 0 0" xyz="0.023 -0.001 -0.046"/>
      <mass value="0.768"/>
      <inertia ixx="1.0" ixy="0.0" ixz="0.0" iyy="1.0" iyz="0.0" izz="1.0"/>
      <!--<inertia ixx="0.00059" ixy="0.00002" ixz="-0.00002" iyy="0.00078" iyz="0.0" izz="0.00078" />-->
    </inertial>
  </link>
  <!-- right wrist pitch joint -->
  <joint name="r_arm_wr_p" type="revolute">
    <axis xyz="0 1 0"/>
    <origin rpy="0 0 0" xyz="0.045 0.045 -0.045"/>
    <parent link="r_arm_wr_y_link"/>
    <child link="r_arm_wr_p_link"/>
    <limit effort="1000" lower="-1.4137166943" upper="1.4137166943" velocity="6.5"/>
    <dynamics damping="0.1" friction="0.0"/>
  </joint>
  <transmission name="r_arm_wr_p_tran">
    <type>transmission_interface/SimpleTransmission</type>
    <joint name="r_arm_wr_p">
      <hardwareInterface>EffortJointInterface</hardwareInterface>
    </joint>
    <actuator name="r_arm_wr_p_motor">
      <hardwareInterface>EffortJointInterface</hardwareInterface>
      <mechanicalReduction>1</mechanicalReduction>
    </actuator>
  </transmission>
  <!-- right wrist pitch link -->
  <link name="r_arm_wr_p_link">
    	  <collision>
      	    <origin xyz="0.07 -0.045 0" rpy="0 0 0"/>
      	    <geometry>
              <box size="0.07 0.1 0.06" />
      	    </geometry>
    	  </collision>
    <visual>
      <origin rpy="0 0 0" xyz="0 0 0"/>
      <geometry>
        <mesh filename="package://gogoro_description/meshes/thormang3/robotis_r_arm_wr_p_link.obj" scale="0.001 0.001 0.001"/>
      </geometry>
      <material name="grey"/>
    </visual>
    <inertial>
      <origin rpy="0 0 0" xyz="0.065 -0.045 0.000"/>
      <mass value="0.565"/>
      <inertia ixx="1.0" ixy="0.0" ixz="0.0" iyy="1.0" iyz="0.0" izz="1.0"/>
      <!--<inertia ixx="0.00047" ixy="0.00001" ixz="0.0" iyy="0.00042" iyz="0.0" izz="0.00058" />-->
    </inertial>
  </link>
  <!-- right arm gripper joint -->
  <joint name="r_arm_grip" type="revolute">
    <axis xyz="0 0 1"/>
    <origin rpy="0 0 -0.698131700889" xyz="0.0877 -0.0583 0.0"/>
    <parent link="r_arm_wr_p_link"/>
    <child link="r_arm_grip_link"/>
    <limit effort="1000" lower="0.0" upper="1.13446401394" velocity="6.5"/>
    <dynamics damping="0.1" friction="0.0"/>
  </joint>
  <transmission name="r_arm_grip_tran">
    <type>transmission_interface/SimpleTransmission</type>
    <joint name="r_arm_grip">
      <hardwareInterface>EffortJointInterface</hardwareInterface>
    </joint>
    <actuator name="r_arm_grip_motor">
      <hardwareInterface>EffortJointInterface</hardwareInterface>
      <mechanicalReduction>1</mechanicalReduction>
    </actuator>
  </transmission>
  <!-- right arm gripper link -->
  <link name="r_arm_grip_link">
    <visual>
      <origin rpy="0 0 0" xyz="0 0 0"/>
      <geometry>
        <mesh filename="package://gogoro_description/meshes/thormang3/robotis_r_arm_grip_1_link.obj" scale="0.001 0.001 0.001"/>
      </geometry>
      <material name="grey"/>
    </visual>
    <inertial>
      <origin rpy="0 0 0" xyz="0.031 -0.014 0.000"/>
      <mass value="0.013"/>
      <inertia ixx="1.0" ixy="0.0" ixz="0.0" iyy="1.0" iyz="0.0" izz="1.0"/>
      <!--<inertia ixx="0.0" ixy="0.0" ixz="0.0" iyy="0.00001" iyz="0.0" izz="0.00001" />-->
    </inertial>
  </link>
  <!-- right arm gripper 1 joint -->
  <joint name="r_arm_grip_1" type="revolute">
    <axis xyz="0 0 -1"/>
    <origin rpy="0 0 0.698131700889" xyz="0.0877 -0.0317 0.0"/>
    <parent link="r_arm_wr_p_link"/>
    <child link="r_arm_grip_1_link"/>
    <limit effort="1000" lower="0.0" upper="1.13446401394" velocity="6.5"/>
    <dynamics damping="0.1" friction="0.0"/>
  </joint>
  <transmission name="r_arm_grip_1_tran">
    <type>transmission_interface/SimpleTransmission</type>
    <joint name="r_arm_grip_1">
      <hardwareInterface>EffortJointInterface</hardwareInterface>
    </joint>
    <actuator name="r_arm_grip_1_motor">
      <hardwareInterface>EffortJointInterface</hardwareInterface>
      <mechanicalReduction>1</mechanicalReduction>
    </actuator>
  </transmission>
  <!-- right arm gripper link -->
  <link name="r_arm_grip_1_link">
    <visual>
      <origin rpy="0 0 0" xyz="0 0 0"/>
      <geometry>
        <mesh filename="package://gogoro_description/meshes/thormang3/robotis_r_arm_grip_link.obj" scale="0.001 0.001 0.001"/>
      </geometry>
      <material name="grey"/>
    </visual>
    <inertial>
      <origin rpy="0 0 0" xyz="0.031 0.014 0.000"/>
      <mass value="0.013"/>
      <inertia ixx="1.0" ixy="0.0" ixz="0.0" iyy="1.0" iyz="0.0" izz="1.0"/>
      <!--<inertia ixx="0.0" ixy="0.0" ixz="0.0" iyy="0.00001" iyz="0.0" izz="0.00001" />-->
    </inertial>
  </link>
  <!-- right end effector -->
  <joint name="r_arm_end" type="fixed">
    <origin rpy="0 0 0" xyz="0.145 -0.045 0"/>
    <parent link="r_arm_wr_p_link"/>
    <child link="r_arm_end_link"/>
  </joint>
  <!-- right end effector link -->
  <link name="r_arm_end_link">
    <visual>
      <origin rpy="0 0 0" xyz="0 0 0"/>
      <geometry>
        <box size="0.01 0.01 0.01"/>
      </geometry>
      <material name="red"/>
    </visual>
    <inertial>
      <origin rpy="0 0 0" xyz="0.0 0.0 0.0"/>
      <mass value="0.001"/>
      <inertia ixx="1.0" ixy="0.0" ixz="0.0" iyy="1.0" iyz="0.0" izz="1.0"/>
    </inertial>
  </link>
  <!-- left hip yaw joint -->
  <joint name="l_leg_hip_y" type="revolute">
    <axis xyz="0 0 -1"/>
    <origin rpy="0 0 0" xyz="0.0 0.093 -0.018"/>
    <parent link="pelvis_link"/>
    <child link="l_leg_hip_y_link"/>
    <limit effort="1000" lower="-1.4137166943" upper="1.4137166943" velocity="6.5"/>
    <dynamics damping="0.1" friction="0.0"/>
  </joint>
  <transmission name="l_leg_hip_y_tran">
    <type>transmission_interface/SimpleTransmission</type>
    <joint name="l_leg_hip_y">
      <hardwareInterface>EffortJointInterface</hardwareInterface>
    </joint>
    <actuator name="l_leg_hip_y_motor">
      <hardwareInterface>EffortJointInterface</hardwareInterface>
      <mechanicalReduction>1</mechanicalReduction>
    </actuator>
  </transmission>
  <!-- left hip yaw link -->
  <link name="l_leg_hip_y_link">
      <!--
    	  <collision>
      	    <origin xyz="-0.01 0 -0.05" rpy="0 0 0"/>
      	    <geometry>
              <box size="0.17 0.07 0.1" />
      	    </geometry>
    	  </collision>
       -->
    <visual>
      <origin rpy="0 0 0" xyz="0 0 0"/>
      <geometry>
        <mesh filename="package://gogoro_description/meshes/thormang3/robotis_l_leg_hip_y_link.obj" scale="0.001 0.001 0.001"/>
      </geometry>
      <material name="grey"/>
    </visual>
    <inertial>
      <origin rpy="0 0 0" xyz="0.012 0.000 -0.025"/>
      <mass value="0.243"/>
      <inertia ixx="1.0" ixy="0.0" ixz="0.0" iyy="1.0" iyz="0.0" izz="1.0"/>
      <!-- <inertia ixx="0.00024" ixy="0.0" ixz="0.0" iyy="0.00101" iyz="0.0" izz="0.00092" /> -->
    </inertial>
  </link>
  <!-- left hip roll joint -->
  <joint name="l_leg_hip_r" type="revolute">
    <axis xyz="-1 0 0"/>
    <origin rpy="0 0 0" xyz="0.057 0.0 -0.075"/>
    <parent link="l_leg_hip_y_link"/>
    <child link="l_leg_hip_r_link"/>
    <limit effort="1000" lower="-0.6283185308" upper="0.9424777962" velocity="6.5"/>
    <dynamics damping="0.1" friction="0.0"/>
  </joint>
  <transmission name="l_leg_hip_r_tran">
    <type>transmission_interface/SimpleTransmission</type>
    <joint name="l_leg_hip_r">
      <hardwareInterface>EffortJointInterface</hardwareInterface>
    </joint>
    <actuator name="l_leg_hip_r_motor">
      <hardwareInterface>EffortJointInterface</hardwareInterface>
      <mechanicalReduction>1</mechanicalReduction>
    </actuator>
  </transmission>
  <!-- left hip roll link -->
  <link name="l_leg_hip_r_link">
      <!--
    	  <collision>
      	    <origin xyz="-0.057 0 0" rpy="0 0 0"/>
      	    <geometry>
              <box size="0.01 0.01 0.01" />
      	    </geometry>
    	  </collision>
       -->
    <visual>
      <origin rpy="0 0 0" xyz="0 0 0"/>
      <geometry>
        <mesh filename="package://gogoro_description/meshes/thormang3/robotis_l_leg_hip_r_link.obj" scale="0.001 0.001 0.001"/>
      </geometry>
      <material name="grey"/>
    </visual>
    <inertial>
      <origin rpy="0 0 0" xyz="-0.068 0.000 0.000"/>
      <mass value="1.045"/>
      <inertia ixx="1.0" ixy="0.0" ixz="0.0" iyy="1.0" iyz="0.0" izz="1.0"/>
      <!-- <inertia ixx="0.00056" ixy="0.0" ixz="0.0" iyy="0.00168" iyz="0.0" izz="0.00171" /> -->
    </inertial>
  </link>
  <!-- left hip pitch joint -->
  <joint name="l_leg_hip_p" type="revolute">
    <axis xyz="0 1 0"/>
    <origin rpy="0 0 0" xyz="-0.057 0.033 0.0"/>
    <parent link="l_leg_hip_r_link"/>
    <child link="l_leg_hip_p_link"/>
    <limit effort="1000" lower="-1.2566370616" upper="1.2566370616" velocity="6.5"/>
    <dynamics damping="0.1" friction="0.0"/>
  </joint>
  <transmission name="l_leg_hip_p_tran">
    <type>transmission_interface/SimpleTransmission</type>
    <joint name="l_leg_hip_p">
      <hardwareInterface>EffortJointInterface</hardwareInterface>
    </joint>
    <actuator name="l_leg_hip_p_motor">
      <hardwareInterface>EffortJointInterface</hardwareInterface>
      <mechanicalReduction>1</mechanicalReduction>
    </actuator>
  </transmission>
  <!-- left hip pitch link -->
  <link name="l_leg_hip_p_link">
      <!--
    	  <collision>
      	    <origin xyz="0 -0.005 -0.145" rpy="0 0 0"/>
      	    <geometry>
              <box size="0.11 0.16 0.33" />
      	    </geometry>
    	  </collision>
       -->
    <visual>
      <origin rpy="0 0 0" xyz="0 0 0"/>
      <geometry>
        <mesh filename="package://gogoro_description/meshes/thormang3/robotis_l_leg_hip_p_link.obj" scale="0.001 0.001 0.001"/>
      </geometry>
      <material name="grey"/>
    </visual>
    <inertial>
      <origin rpy="0 0 0" xyz="0.022 -0.007 -0.168"/>
      <mass value="3.095"/>
      <inertia ixx="1.0" ixy="0.0" ixz="0.0" iyy="1.0" iyz="0.0" izz="1.0"/>
      <!-- <inertia ixx="0.04328" ixy="0.00028" ixz="0.00288" iyy="0.04042" iyz="-0.00202" izz="0.00560" /> -->
    </inertial>
  </link>
  <!-- left knee pitch joint -->
  <joint name="l_leg_kn_p" type="revolute">
    <axis xyz="0 1 0"/>
    <origin rpy="0 0 0" xyz="0.0 0.06 -0.3"/>
    <parent link="l_leg_hip_p_link"/>
    <child link="l_leg_kn_p_link"/>
    <limit effort="1000" lower="-0.3141592654" upper="2.1991148578" velocity="6.5"/>
    <dynamics damping="0.1" friction="0.0"/>
  </joint>
  <transmission name="l_leg_kn_p_tran">
    <type>transmission_interface/SimpleTransmission</type>
    <joint name="l_leg_kn_p">
      <hardwareInterface>EffortJointInterface</hardwareInterface>
    </joint>
    <actuator name="l_leg_kn_p_motor">
      <hardwareInterface>EffortJointInterface</hardwareInterface>
      <mechanicalReduction>1</mechanicalReduction>
    </actuator>
  </transmission>
  <!-- left knee pitch link -->
  <link name="l_leg_kn_p_link">
      <!--
    	  <collision>
      	    <origin xyz="0.01 -0.065 -0.145" rpy="0 0 0"/>
      	    <geometry>
              <box size="0.11 0.16 0.33" />
      	    </geometry>
    	  </collision>
       -->
    <visual>
      <origin rpy="0 0 0" xyz="0 0 0"/>
      <geometry>
        <mesh filename="package://gogoro_description/meshes/thormang3/robotis_l_leg_kn_p_link.obj" scale="0.001 0.001 0.001"/>
      </geometry>
      <material name="grey"/>
    </visual>
    <inertial>
      <origin rpy="0 0 0" xyz="-0.002 -0.066 -0.183"/>
      <mass value="2.401"/>
      <inertia ixx="1.0" ixy="0.0" ixz="0.0" iyy="1.0" iyz="0.0" izz="1.0"/>
      <!-- <inertia ixx="0.01971" ixy="0.00031" ixz="-0.00294" iyy="0.01687" iyz="0.00140" izz="0.00574" /> -->
    </inertial>
  </link>
  <!-- left ankle pitch joint -->
  <joint name="l_leg_an_p" type="revolute">
    <axis xyz="0 -1 0"/>
    <origin rpy="0 0 0" xyz="-0.0 -0.06 -0.3"/>
    <parent link="l_leg_kn_p_link"/>
    <child link="l_leg_an_p_link"/>
    <limit effort="1000" lower="-1.4137166943" upper="1.4137166943" velocity="6.5"/>
    <dynamics damping="0.1" friction="0.0"/>
  </joint>
  <transmission name="l_leg_an_p_tran">
    <type>transmission_interface/SimpleTransmission</type>
    <joint name="l_leg_an_p">
      <hardwareInterface>EffortJointInterface</hardwareInterface>
    </joint>
    <actuator name="l_leg_an_p_motor">
      <hardwareInterface>EffortJointInterface</hardwareInterface>
      <mechanicalReduction>1</mechanicalReduction>
    </actuator>
  </transmission>
  <!-- left ankle pitch link -->
  <link name="l_leg_an_p_link">
      <!--
    	  <collision>
      	    <origin xyz="0 0 0" rpy="0 0 0"/>
      	    <geometry>
              <box size="0.01 0.01 0.01" />
      	    </geometry>
    	  </collision>
       -->
    <visual>
      <origin rpy="0 0 0" xyz="0 0 0"/>
      <geometry>
        <mesh filename="package://gogoro_description/meshes/thormang3/robotis_l_leg_an_p_link.obj" scale="0.001 0.001 0.001"/>
      </geometry>
      <material name="grey"/>
    </visual>
    <inertial>
      <origin rpy="0 0 0" xyz="-0.011 -0.033 0.000"/>
      <mass value="1.045"/>
      <inertia ixx="1.0" ixy="0.0" ixz="0.0" iyy="1.0" iyz="0.0" izz="1.0"/>
      <!-- <inertia ixx="0.00056" ixy="0.0" ixz="0.0" iyy="0.00168" iyz="0.0" izz="0.00171" /> -->
    </inertial>
  </link>
  <!-- left ankle roll joint -->
  <joint name="l_leg_an_r" type="revolute">
    <axis xyz="1 0 0"/>
    <origin rpy="0 0 0" xyz="0.057 -0.033 0.0"/>
    <parent link="l_leg_an_p_link"/>
    <child link="l_leg_an_r_link"/>
    <limit effort="1000" lower="-1.570796327" upper="1.2566370616" velocity="6.5"/>
    <dynamics damping="0.1" friction="0.0"/>
  </joint>
  <transmission name="l_leg_an_r_tran">
    <type>transmission_interface/SimpleTransmission</type>
    <joint name="l_leg_an_r">
      <hardwareInterface>EffortJointInterface</hardwareInterface>
    </joint>
    <actuator name="l_leg_an_r_motor">
      <hardwareInterface>EffortJointInterface</hardwareInterface>
      <mechanicalReduction>1</mechanicalReduction>
    </actuator>
  </transmission>
  <!-- left ankle roll link -->
  <link name="l_leg_an_r_link">
      <!--
    	  <collision>
      	    <origin xyz="-0.067 0 -0.02" rpy="0 0 0"/>
      	    <geometry>
              <box size="0.17 0.06 0.12" />
      	    </geometry>
    	  </collision>
       -->
    <visual>
      <origin rpy="0 0 0" xyz="0 0 0"/>
      <geometry>
        <mesh filename="package://gogoro_description/meshes/thormang3/robotis_l_leg_an_r_link.obj" scale="0.001 0.001 0.001"/>
      </geometry>
      <material name="grey"/>
    </visual>
    <inertial>
      <origin rpy="0 0 0" xyz="-0.070 0.000 -0.048"/>
      <mass value="0.223"/>
      <inertia ixx="1.0" ixy="0.0" ixz="0.0" iyy="1.0" iyz="0.0" izz="1.0"/>
      <!-- <inertia ixx="0.00022" ixy="0.0" ixz="-0.00001" iyy="0.00099" iyz="0.0" izz="0.00091" /> -->
    </inertial>
  </link>
  <!-- left ft joint -->
  <joint name="l_leg_ft" type="fixed">
    <origin rpy="0 0 0" xyz="-0.057 0.0 -0.087"/>
    <parent link="l_leg_an_r_link"/>
    <child link="l_leg_foot_link"/>
  </joint>
  <!-- left foot link -->
  <link name="l_leg_foot_link">
      <!--
    	  <collision>
      	    <origin xyz="0 0.014 -0.02" rpy="0 0 0"/>
      	    <geometry>
              <box size="0.22 0.15 0.015" />
      	    </geometry>
    	  </collision>
       -->
    <visual>
      <origin rpy="0 0 0" xyz="0 0 0"/>
      <geometry>
        <mesh filename="package://gogoro_description/meshes/thormang3/robotis_l_leg_foot.obj" scale="0.001 0.001 0.001"/>
      </geometry>
      <material name="grey"/>
    </visual>
    <inertial>
      <origin rpy="0 0 0" xyz="0.000 0.009 -0.013"/>
      <mass value="1.689"/>
      <inertia ixx="1.0" ixy="0.0" ixz="0.0" iyy="1.0" iyz="0.0" izz="1.0"/>
      <!-- <inertia ixx="0.00219" ixy="0.0" ixz="0.0" iyy="0.00433" iyz="0.00011" izz="0.00609" /> -->
    </inertial>
  </link>
  <!-- left ft fixed joint -->
  <joint name="l_leg_ft_fixed" type="fixed">
    <origin rpy="3.141592654 0 0" xyz="0.0 0.0 0.0"/>
    <parent link="l_leg_foot_link"/>
    <child link="l_foot_ft_link"/>
  </joint>
  <!-- left foot ft link -->
  <link name="l_foot_ft_link">
        </link>
  <!-- right hip yaw joint -->
  <joint name="r_leg_hip_y" type="revolute">
    <axis xyz="0 0 -1"/>
    <origin rpy="0 0 0" xyz="0.0 -0.093 -0.018"/>
    <parent link="pelvis_link"/>
    <child link="r_leg_hip_y_link"/>
    <limit effort="1000" lower="-1.4137166943" upper="1.4137166943" velocity="6.5"/>
    <dynamics damping="0.1" friction="0.0"/>
  </joint>
  <transmission name="r_leg_hip_y_tran">
    <type>transmission_interface/SimpleTransmission</type>
    <joint name="r_leg_hip_y">
      <hardwareInterface>EffortJointInterface</hardwareInterface>
    </joint>
    <actuator name="r_leg_hip_y_motor">
      <hardwareInterface>EffortJointInterface</hardwareInterface>
      <mechanicalReduction>1</mechanicalReduction>
    </actuator>
  </transmission>
  <!-- right hip yaw link -->
  <link name="r_leg_hip_y_link">
      <!--
    	  <collision>
      	    <origin xyz="-0.01 0 -0.05" rpy="0 0 0"/>
      	    <geometry>
              <box size="0.17 0.07 0.1" />
      	    </geometry>
    	  </collision>
       -->
    <visual>
      <origin rpy="0 0 0" xyz="0 0 0"/>
      <geometry>
        <mesh filename="package://gogoro_description/meshes/thormang3/robotis_r_leg_hip_y_link.obj" scale="0.001 0.001 0.001"/>
      </geometry>
      <material name="grey"/>
    </visual>
    <inertial>
      <origin rpy="0 0 0" xyz="-0.012 0.000 -0.025"/>
      <mass value="0.243"/>
      <inertia ixx="1.0" ixy="0.0" ixz="0.0" iyy="1.0" iyz="0.0" izz="1.0"/>
      <!-- <inertia ixx="0.00024" ixy="0.0" ixz="0.0" iyy="0.00101" iyz="0.0" izz="0.00092" /> -->
    </inertial>
  </link>
  <!-- right hip roll joint -->
  <joint name="r_leg_hip_r" type="revolute">
    <axis xyz="-1 0 0"/>
    <origin rpy="0 0 0" xyz="0.057 0.0 -0.075"/>
    <parent link="r_leg_hip_y_link"/>
    <child link="r_leg_hip_r_link"/>
    <limit effort="1000" lower="-0.9424777962" upper="0.6283185308" velocity="6.5"/>
    <dynamics damping="0.1" friction="0.0"/>
  </joint>
  <transmission name="r_leg_hip_r_tran">
    <type>transmission_interface/SimpleTransmission</type>
    <joint name="r_leg_hip_r">
      <hardwareInterface>EffortJointInterface</hardwareInterface>
    </joint>
    <actuator name="r_leg_hip_r_motor">
      <hardwareInterface>EffortJointInterface</hardwareInterface>
      <mechanicalReduction>1</mechanicalReduction>
    </actuator>
  </transmission>
  <!-- right hip roll link -->
  <link name="r_leg_hip_r_link">
      <!--
    	  <collision>
      	    <origin xyz="0 0 0" rpy="0 0 0"/>
      	    <geometry>
              <box size="0.01 0.01 0.01" />
      	    </geometry>
    	  </collision>
       -->
    <visual>
      <origin rpy="0 0 0" xyz="0 0 0"/>
      <geometry>
        <mesh filename="package://gogoro_description/meshes/thormang3/robotis_r_leg_hip_r_link.obj" scale="0.001 0.001 0.001"/>
      </geometry>
      <material name="grey"/>
    </visual>
    <inertial>
      <origin rpy="0 0 0" xyz="-0.068 0.000 0.000"/>
      <mass value="1.045"/>
      <inertia ixx="1.0" ixy="0.0" ixz="0.0" iyy="1.0" iyz="0.0" izz="1.0"/>
      <!-- <inertia ixx="0.00056" ixy="0.0" ixz="0.0" iyy="0.00168" iyz="0.0" izz="0.00171" /> -->
    </inertial>
  </link>
  <!-- right hip pitch joint -->
  <joint name="r_leg_hip_p" type="revolute">
    <axis xyz="0 -1 0"/>
    <origin rpy="0 0 0" xyz="-0.057 -0.033 0.0"/>
    <parent link="r_leg_hip_r_link"/>
    <child link="r_leg_hip_p_link"/>
    <limit effort="1000" lower="-1.2566370616" upper="1.2566370616" velocity="6.5"/>
    <dynamics damping="0.1" friction="0.0"/>
  </joint>
  <transmission name="r_leg_hip_p_tran">
    <type>transmission_interface/SimpleTransmission</type>
    <joint name="r_leg_hip_p">
      <hardwareInterface>EffortJointInterface</hardwareInterface>
    </joint>
    <actuator name="r_leg_hip_p_motor">
      <hardwareInterface>EffortJointInterface</hardwareInterface>
      <mechanicalReduction>1</mechanicalReduction>
    </actuator>
  </transmission>
  <!-- right hip pitch link -->
  <link name="r_leg_hip_p_link">
      <!--
    	  <collision>
      	    <origin xyz="0 0.005 -0.145" rpy="0 0 0"/>
      	    <geometry>
              <box size="0.11 0.16 0.33" />
      	    </geometry>
    	  </collision>
       -->
    <visual>
      <origin rpy="0 0 0" xyz="0 0 0"/>
      <geometry>
        <mesh filename="package://gogoro_description/meshes/thormang3/robotis_r_leg_hip_p_link.obj" scale="0.001 0.001 0.001"/>
      </geometry>
      <material name="grey"/>
    </visual>
    <inertial>
      <origin rpy="0 0 0" xyz="0.022 0.007 -0.168"/>
      <mass value="3.095"/>
      <inertia ixx="1.0" ixy="0.0" ixz="0.0" iyy="1.0" iyz="0.0" izz="1.0"/>
      <!-- <inertia ixx="0.04328" ixy="-0.00027" ixz="0.00286" iyy="0.04042" iyz="-0.00202" izz="0.00560" /> -->
    </inertial>
  </link>
  <!-- right knee pitch joint -->
  <joint name="r_leg_kn_p" type="revolute">
    <axis xyz="0 -1 0"/>
    <origin rpy="0 0 0" xyz="0.0 -0.06 -0.3"/>
    <parent link="r_leg_hip_p_link"/>
    <child link="r_leg_kn_p_link"/>
    <limit effort="1000" lower="-2.1991148578" upper="0.3141592654" velocity="6.5"/>
    <dynamics damping="0.1" friction="0.0"/>
  </joint>
  <transmission name="r_leg_kn_p_tran">
    <type>transmission_interface/SimpleTransmission</type>
    <joint name="r_leg_kn_p">
      <hardwareInterface>EffortJointInterface</hardwareInterface>
    </joint>
    <actuator name="r_leg_kn_p_motor">
      <hardwareInterface>EffortJointInterface</hardwareInterface>
      <mechanicalReduction>1</mechanicalReduction>
    </actuator>
  </transmission>
  <!-- right knee pitch link -->
  <link name="r_leg_kn_p_link">
      <!--
    	  <collision>
      	    <origin xyz="0.01 0.065 -0.145" rpy="0 0 0"/>
      	    <geometry>
              <box size="0.11 0.16 0.33" />
      	    </geometry>
    	  </collision>
       -->
    <visual>
      <origin rpy="0 0 0" xyz="0 0 0"/>
      <geometry>
        <mesh filename="package://gogoro_description/meshes/thormang3/robotis_r_leg_kn_p_link.obj" scale="0.001 0.001 0.001"/>
      </geometry>
      <material name="grey"/>
    </visual>
    <inertial>
      <origin rpy="0 0 0" xyz="-0.002 0.066 -0.183"/>
      <mass value="2.401"/>
      <inertia ixx="1.0" ixy="0.0" ixz="0.0" iyy="1.0" iyz="0.0" izz="1.0"/>
      <!-- <inertia ixx="0.01971" ixy="-0.00031" ixz="-0.00294" iyy="0.01687" iyz="-0.00140" izz="0.00574" /> -->
    </inertial>
  </link>
  <!-- right ankle pitch joint -->
  <joint name="r_leg_an_p" type="revolute">
    <axis xyz="0 1 0"/>
    <origin rpy="0 0 0" xyz="-0.0 0.06 -0.3"/>
    <parent link="r_leg_kn_p_link"/>
    <child link="r_leg_an_p_link"/>
    <limit effort="1000" lower="-1.4137166943" upper="1.4137166943" velocity="6.5"/>
    <dynamics damping="0.1" friction="0.0"/>
  </joint>
  <transmission name="r_leg_an_p_tran">
    <type>transmission_interface/SimpleTransmission</type>
    <joint name="r_leg_an_p">
      <hardwareInterface>EffortJointInterface</hardwareInterface>
    </joint>
    <actuator name="r_leg_an_p_motor">
      <hardwareInterface>EffortJointInterface</hardwareInterface>
      <mechanicalReduction>1</mechanicalReduction>
    </actuator>
  </transmission>
  <!-- right ankle pitch link -->
  <link name="r_leg_an_p_link">
      <!--
    	  <collision>
      	    <origin xyz="0 0 0" rpy="0 0 0"/>
      	    <geometry>
              <box size="0.01 0.01 0.01" />
      	    </geometry>
    	  </collision>
       -->
    <visual>
      <origin rpy="0 0 0" xyz="0 0 0"/>
      <geometry>
        <mesh filename="package://gogoro_description/meshes/thormang3/robotis_r_leg_an_p_link.obj" scale="0.001 0.001 0.001"/>
      </geometry>
      <material name="grey"/>
    </visual>
    <inertial>
      <origin rpy="0 0 0" xyz="-0.011 0.033 0.000"/>
      <mass value="1.045"/>
      <inertia ixx="1.0" ixy="0.0" ixz="0.0" iyy="1.0" iyz="0.0" izz="1.0"/>
      <!-- <inertia ixx="0.00056" ixy="0.0" ixz="0.0" iyy="0.00168" iyz="0.0" izz="0.00171" /> -->
    </inertial>
  </link>
  <!-- right ankle roll joint -->
  <joint name="r_leg_an_r" type="revolute">
    <axis xyz="1 0 0"/>
    <origin rpy="0 0 0" xyz="0.057 0.033 0.0"/>
    <parent link="r_leg_an_p_link"/>
    <child link="r_leg_an_r_link"/>
    <limit effort="1000" lower="-1.4137166943" upper="1.4137166943" velocity="6.5"/>
    <dynamics damping="0.1" friction="0.0"/>
  </joint>
  <transmission name="r_leg_an_r_tran">
    <type>transmission_interface/SimpleTransmission</type>
    <joint name="r_leg_an_r">
      <hardwareInterface>EffortJointInterface</hardwareInterface>
    </joint>
    <actuator name="r_leg_an_r_motor">
      <hardwareInterface>EffortJointInterface</hardwareInterface>
      <mechanicalReduction>1</mechanicalReduction>
    </actuator>
  </transmission>
  <!-- right ankle roll link -->
  <link name="r_leg_an_r_link">
      <!--
    	  <collision>
      	    <origin xyz="-0.067 0 -0.02" rpy="0 0 0"/>
      	    <geometry>
              <box size="0.17 0.06 0.12" />
      	    </geometry>
    	  </collision>
       -->
    <visual>
      <origin rpy="0 0 0" xyz="0 0 0"/>
      <geometry>
        <mesh filename="package://gogoro_description/meshes/thormang3/robotis_r_leg_an_r_link.obj" scale="0.001 0.001 0.001"/>
      </geometry>
      <material name="grey"/>
    </visual>
    <inertial>
      <origin rpy="0 0 0" xyz="-0.070 0.000 -0.048"/>
      <mass value="0.223"/>
      <inertia ixx="1.0" ixy="0.0" ixz="0.0" iyy="1.0" iyz="0.0" izz="1.0"/>
      <!-- <inertia ixx="0.00022" ixy="0.0" ixz="-0.00001" iyy="0.00099" iyz="0.0" izz="0.00091" /> -->
    </inertial>
  </link>
  <!-- right ft joint -->
  <joint name="r_leg_ft" type="fixed">
    <origin rpy="0 0 0" xyz="-0.057 0.0 -0.087"/>
    <parent link="r_leg_an_r_link"/>
    <child link="r_leg_foot_link"/>
  </joint>
  <!-- right foot link -->
  <link name="r_leg_foot_link">
      <!--
    	  <collision>
      	    <origin xyz="0 -0.014 -0.02" rpy="0 0 0"/>
      	    <geometry>
              <box size="0.22 0.15 0.015" />
      	    </geometry>
    	  </collision>
       -->
    <visual>
      <origin rpy="0 0 0" xyz="0 0 0"/>
      <geometry>
        <mesh filename="package://gogoro_description/meshes/thormang3/robotis_r_leg_foot.obj" scale="0.001 0.001 0.001"/>
      </geometry>
      <material name="grey"/>
    </visual>
    <inertial>
      <origin rpy="0 0 0" xyz="0.000 -0.009 -0.013"/>
      <mass value="1.689"/>
      <inertia ixx="1.0" ixy="0.0" ixz="0.0" iyy="1.0" iyz="0.0" izz="1.0"/>
      <!-- <inertia ixx="0.00219" ixy="0.0" ixz="0.0" iyy="0.00433" iyz="-0.00011" izz="0.00609" /> -->
    </inertial>
  </link>
  <!-- right ft fixed joint -->
  <joint name="r_leg_ft_fixed" type="fixed">
    <origin rpy="3.141592654 0 0" xyz="0.0 0.0 0.0"/>
    <parent link="r_leg_foot_link"/>
    <child link="r_foot_ft_link"/>
  </joint>
  <!-- right foot ft link -->
  <link name="r_foot_ft_link">
        </link>
  <!-- head yaw joint -->
  <joint name="head_y" type="revolute">
    <axis xyz="0 0 1"/>
    <origin rpy="0 0 0" xyz="0.0 0.0 0.229"/>
    <parent link="chest_link"/>
    <child link="head_y_link"/>
    <limit effort="1000" lower="-1.570796327" upper="1.570796327" velocity="6.5"/>
    <dynamics damping="0.1" friction="0.0"/>
  </joint>
  <transmission name="head_y_tran">
    <type>transmission_interface/SimpleTransmission</type>
    <joint name="head_y">
      <hardwareInterface>EffortJointInterface</hardwareInterface>
    </joint>
    <actuator name="head_y_motor">
      <hardwareInterface>EffortJointInterface</hardwareInterface>
      <mechanicalReduction>1</mechanicalReduction>
    </actuator>
  </transmission>
  <!-- head yaw link -->
  <link name="head_y_link">
    	  <collision>
      	    <origin xyz="0 0 0" rpy="0 0 0"/>
      	    <geometry>
              <box size="0.07 0.1 0.1" />
      	    </geometry>
    	  </collision>
    <visual>
      <origin rpy="0 0 0" xyz="0 0 0"/>
      <geometry>
        <mesh filename="package://gogoro_description/meshes/thormang3/robotis_head_y_link.obj" scale="0.001 0.001 0.001"/>
      </geometry>
      <material name="grey"/>
    </visual>
    <inertial>
      <origin rpy="0 0 0" xyz="0.0 0.0 0.0"/>
      <mass value="1.0"/>
      <inertia ixx="1.0" ixy="0.0" ixz="0.0" iyy="1.0" iyz="0.0" izz="1.0"/>
    </inertial>
  </link>
  <!-- head pitch joint -->
  <joint name="head_p" type="revolute">
    <axis xyz="0 1 0"/>
    <origin rpy="0 0 0" xyz="0.0 -0.045 0.039"/>
    <parent link="head_y_link"/>
    <child link="head_p_link"/>
    <limit effort="1000" lower="-1.570796327" upper="1.570796327" velocity="6.5"/>
    <dynamics damping="0.1" friction="0.0"/>
  </joint>
  <transmission name="head_p_tran">
    <type>transmission_interface/SimpleTransmission</type>
    <joint name="head_p">
      <hardwareInterface>EffortJointInterface</hardwareInterface>
    </joint>
    <actuator name="head_p_motor">
      <hardwareInterface>EffortJointInterface</hardwareInterface>
      <mechanicalReduction>1</mechanicalReduction>
    </actuator>
  </transmission>
  <!-- head pitch link -->
  <link name="head_p_link">
    	  <collision>
      	    <origin xyz="0.01 0.045 0.06" rpy="0 0 0"/>
      	    <geometry>
              <box size="0.13 0.15 0.15" />
      	    </geometry>
    	  </collision>
    <visual>
      <origin rpy="0 0 0" xyz="0 0 0"/>
      <geometry>
        <mesh filename="package://gogoro_description/meshes/thormang3/robotis_head_p_link.obj" scale="0.001 0.001 0.001"/>
      </geometry>
      <material name="grey"/>
    </visual>
    <inertial>
      <origin rpy="0 0 0" xyz="0.0 0.0 0.0"/>
      <mass value="1.0"/>
      <inertia ixx="1.0" ixy="0.0" ixz="0.0" iyy="1.0" iyz="0.0" izz="1.0"/>
    </inertial>
  </link>
  <!-- camera joint -->
  <joint name="cam" type="fixed">
    <!--<origin xyz="0.0682 0.045 0.056" rpy="${-pi*0.5} 0 ${-pi*0.5}"/> -->
    <origin rpy="0 0 0" xyz="0.0682 0.045 0.056"/>
    <parent link="head_p_link"/>
    <child link="cam_link"/>
  </joint>
  <!-- camera link -->
  <link name="cam_link">
        </link>
  <!-- lidar joint -->
  <joint name="lidar_fixed" type="fixed">
    <origin rpy="0 0 0" xyz="0.0 0.045 0.10675"/>
    <parent link="head_p_link"/>
    <child link="lidar_link"/>
  </joint>
  <!-- lidar link -->
  <link name="lidar_link">
        </link>
  <!-- realsense joint -->
  <joint name="realsense_fixed" type="fixed">
    <!--<origin xyz="0.0749 0.02 0.0292" rpy="0 0 0"/>-->
    <origin rpy="0 0 0" xyz="0.0529 -0.009 0.0292"/>
    <parent link="head_p_link"/>
    <child link="realsense_link"/>
  </joint>
  <!-- realsense link -->
  <link name="realsense_link">
        </link>
  <!-- Gazebo Plugins -->
  <gazebo>
    <plugin filename="libgazebo_ros_control.so" name="gazebo_ros_control">
      <robotNamespace>/gogoro</robotNamespace>
    </plugin>
  </gazebo>
  <plugin filename="libgazebo_ros_joint_state_publisher.so" name="joint_state_publisher">
    <robotNamespace>gogoro</robotNamespace>
    <jointName>
            front_wheel_joint
        </jointName>
    <updateRate>100</updateRate>
    <alwaysOn>true</alwaysOn>
  </plugin>
  <!--
    <gazebo>
    <plugin name="ground_truth" filename="libgazebo_ros_p3d.so">
        <frameName>body</frameName>
        <bodyName>body</bodyName>
        <topicName>odom</topicName>
        <updateRate>100.0</updateRate>
    </plugin>
    </gazebo>
    -->
  <!-- Joints definitions -->
  <!-- Steering handle bar-->
  <joint name="steering_joint" type="revolute">
    <parent link="body"/>
    <child link="head"/>
    <origin rpy="0 -0.5235987755982988 0" xyz="471.816e-03 0 721.487e-03"/>
    <axis xyz="0 0 1"/>
    <limit effort="10000" lower="-0.5235987755982988" upper="0.5235987755982988" velocity="10000"/>
    <dynamics damping="0.0" friction="0.0"/>
  </joint>
  <!-- Fron wheel -->
  <joint name="front_wheel_joint" type="continuous">
    <parent link="head"/>
    <child link="front"/>
    <origin rpy="0 0.5235987755982988 0" xyz="-30e-03 0 -580.288e-03"/>
    <axis xyz="0 1 0"/>
    <limit velocity="1000" effort="10000000000"/>
  </joint>
  <!-- Rear wheel -->
  <joint name="rear_wheel_joint" type="continuous">
    <parent link="body"/>
    <child link="back"/>
    <origin rpy="0 0 0" xyz="-448.031e-03 0 201.999e-03"/>
    <axis xyz="0 1 0"/>
    <limit velocity="1000" effort="10000000000" /> 
  </joint>
  <!-- Transmissions-->
  <!--
  <transmission name="tran1">
    <type>transmission_interface/SimpleTransmission</type>
    <joint name="steering_joint">
      <hardwareInterface>hardware_interface/EffortJointInterface</hardwareInterface>
    </joint>
    <actuator name="motor1">
      <hardwareInterface>hardware_interface/EffortJointInterface</hardwareInterface>
      <mechanicalReduction>1</mechanicalReduction>
    </actuator>
  </transmission>
  <transmission name="tran2">
    <type>transmission_interface/SimpleTransmission</type>
    <joint name="rear_wheel_joint">
      <hardwareInterface>hardware_interface/VelocityJointInterface</hardwareInterface>
    </joint>
    <actuator name="motor2">
      <hardwareInterface>hardware_interface/VelocityJointInterface</hardwareInterface>
      <mechanicalReduction>1</mechanicalReduction>
    </actuator>
  </transmission>
  <transmission name="tran3">
    <type>transmission_interface/SimpleTransmission</type>
    <joint name="front_wheel_joint">
      <hardwareInterface>hardware_interface/VelocityJointInterface</hardwareInterface>
    </joint>
    <actuator name="motor3">
      <hardwareInterface>hardware_interface/VelocityJointInterface</hardwareInterface>
      <mechanicalReduction>1</mechanicalReduction>
    </actuator>
  </transmission>
-->
  <!-- Links definition-->
  <link name="body">
    <inertial>
      <origin rpy="0 0 0" xyz="-43.617e-03 0 486.763e-03"/>
      <mass value="79.2"/>
      <!-- 79.2 -->
      <inertia ixx="4.40515" ixy="0.117584" ixz="-1.66168" iyy="18.0137" iyz="0.098875" izz="14.8791"/>
      <inertia ixx="1" ixy="0" ixz="0" iyy="1" iyz="0" izz="1"/>
    </inertial>
        <collision>
            <origin xyz="0 0 0" rpy="0 0 0"/>
            <geometry>
                <mesh filename="package://gogoro_description/meshes/body.obj" scale="0.001 0.001 0.001"/>
            </geometry>
        </collision>
    <visual>
      <origin rpy="0 0 0" xyz="0 0 0"/>
      <geometry>
        <mesh filename="package://gogoro_description/meshes/body.obj" scale="0.001 0.001 0.001"/>
      </geometry>
      <material name="grey"/>
    </visual>
  </link>
  <!--2nd link-->
  <link name="head">
    <inertial>
      <origin rpy="0 0 0" xyz="0 0 0"/>
      <!-- <mass value="8.280e+00"/> -->
      <mass value="0.1"/>
      <!-- <inertia ixx="1.209e+01" ixy="0" ixz="5.265e+00" iyy="1.505e+01" iyz="0" izz="3.955e+01"/> -->
      <!-- <inertia ixx="1.209e-02" ixy="0" ixz="5.265e-03" iyy="1.505e-02" iyz="0" izz="3.955e-02"/> -->
      <inertia ixx="1" ixy="0" ixz="0" iyy="1" iyz="0" izz="1"/>
    </inertial>
    <collision>
      <origin rpy="0 0.5235987755982988 0" xyz="-769.287e-03 0 -388.918e-03"/>
      <geometry>
        <mesh filename="package://gogoro_description/meshes/head_bar.obj" scale="0.001 0.001 0.001"/>
      </geometry>
    </collision>
    <visual>
      <origin rpy="0 0.5235987755982988 0" xyz="-769.287e-03 0 -388.918e-03"/>
      <geometry>
        <mesh filename="package://gogoro_description/meshes/head_bar.obj" scale="0.001 0.001 0.001"/>
      </geometry>
      <material name="grey"/>
    </visual>
  </link>
  <link name="front">
    <inertial>
      <origin rpy="0 0 0" xyz="0 0 0"/>
      <!-- <mass value="2.753e+00"/> -->
      <mass value="0.1"/>
      <!-- <inertia ixx="0.8712e-03" ixy="0" ixz="0" iyy="7.728e-03" iyz="0" izz=".8712e-03"/> -->
      <inertia ixx="1" ixy="0" ixz="0" iyy="1" iyz="0" izz="1"/>
    </inertial>
    <collision name="collision_front">
      <origin rpy="0 0 0" xyz="-731.969e-03 0 -201.999e-03"/>
      <geometry>
        <mesh filename="package://gogoro_description/meshes/front_wheel.obj" scale="0.001 0.001 0.001"/>
        <!-- <sphere radius="1.0"/> -->
      </geometry>
    </collision>
    <visual>
      <origin rpy="0 0 0" xyz="-731.969e-03 0 -201.999e-03"/>
      <geometry>
        <mesh filename="package://gogoro_description/meshes/front_wheel.obj" scale="0.001 0.001 0.001"/>
      </geometry>
    </visual>
  </link>
  <!--4th link-->
  <link name="back">
    <inertial>
      <origin rpy="0 0 0" xyz="0 0 0"/>
      <!-- <mass value="2.753e+00"/> -->
      <mass value="0.1"/>
      <!-- <inertia ixx=".8712e-03" ixy="0" ixz="0" iyy="7.728e-03" iyz="0" izz=".8712e-03"/> -->
      <inertia ixx="1" ixy="0" ixz="0" iyy="1" iyz="0" izz="1"/>
    </inertial>
    <collision name="collision_back">
      <origin rpy="0 0 0" xyz="-731.969e-03 0 -201.999e-03"/>
      <geometry>
        <mesh filename="package://gogoro_description/meshes/front_wheel.obj" scale="0.001 0.001 0.001"/>
        <!-- <sphere radius="1.0"/> -->
      </geometry>
    </collision>
    <visual name="back_visual">
      <origin rpy="0 0 0" xyz="-731.969e-03 0 -201.999e-03"/>
      <geometry>
        <mesh filename="package://gogoro_description/meshes/front_wheel.obj" scale="0.001 0.001 0.001"/>
      </geometry>
      <material name="grey"/>
    </visual>
  </link>
  <gazebo reference="back">
    <mu1>0.2</mu1>
    <mu2>0.2</mu2>
    <maxVel>100.0</maxVel>
    <material>Gazebo/Orange</material>
  </gazebo>
  <gazebo reference="front">
    <mu1>0.2</mu1>
    <mu2>0.2</mu2>
    <maxVel>100.0</maxVel>
    <material>Gazebo/Orange</material>
  </gazebo>
  <!-- Connect Thormang3 pelvis to Gogoro's body -->
  <joint name="thormang3_fixed_gogoro" type="fixed">
    <origin rpy="0 0 0" xyz="0 0 -.9"/>
    <parent link="pelvis_link"/>
    <child link="body"/>
  </joint>
</robot>
